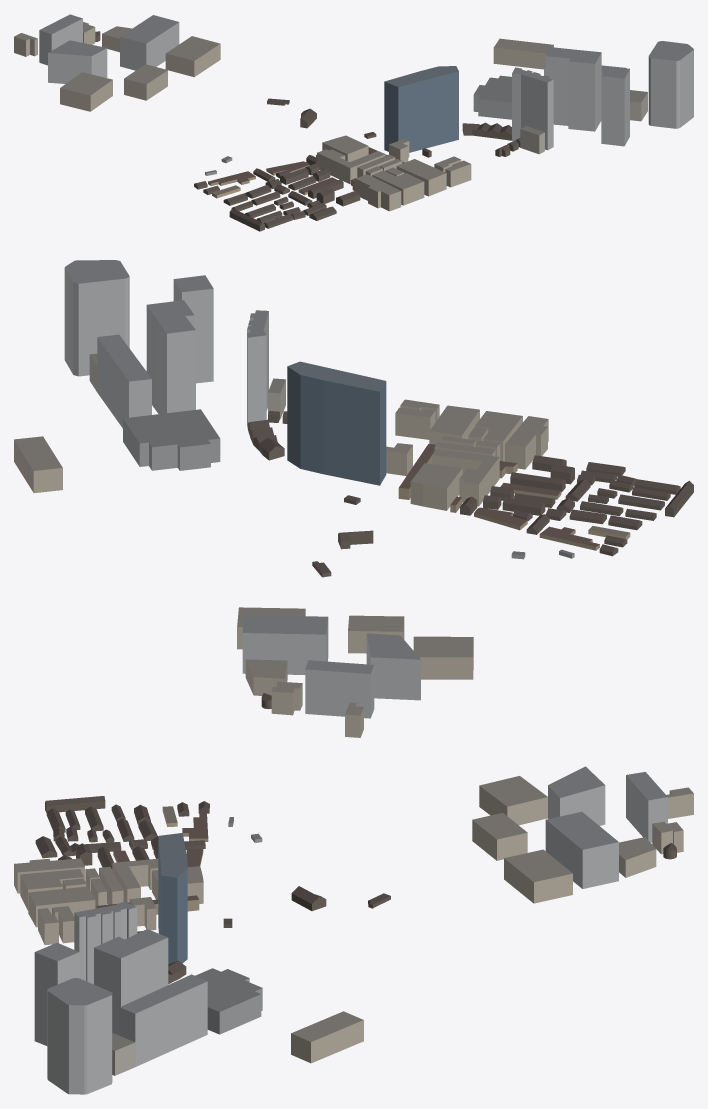
File: tile_7_8.glb
The picture shows the model from 3 angles, top to bottom: view 1: azimuth 30°, elevation 25°; view 2: azimuth 150°, elevation 25°; view 3: azimuth 270°, elevation 25°; orthographic projection. The views are drawn at different scales.
Parts seen in each view (by area): view 1: HP-w250067019, HP-w520214798, HP-w858807440, HP-w447024802, HP-w1287050298, HP-w447024814, HP-w1287050300, HP-w1287050297, HP-w1287050299, HP-w447024801, HP-w520214802, HP-w515758765 (+15 smaller); view 2: HP-w250067019, HP-w520214798, HP-w520214802, HP-w1287050298, HP-w447024815, HP-w447024801, HP-w389701966, HP-w1287050300, HP-w447024814, HP-w1287050299, HP-w858807440, HP-w515758765 (+13 smaller); view 3: HP-w520214798, HP-w447024815, HP-w1287050298, HP-w250067019, HP-w447024802, HP-w520214802, HP-w858807440, HP-w1287050297, HP-w515758765, HP-w447024814, HP-w1287050299, HP-w1287050300 (+20 smaller).
Part boxes in pixels (<box>): HP-w250067019: <box>384,66,458,152</box>; HP-w520214798: <box>648,41,693,128</box>; HP-w858807440: <box>512,67,553,150</box>; HP-w447024802: <box>568,49,601,131</box>; HP-w1287050298: <box>120,15,179,70</box>; HP-w447024814: <box>601,66,629,146</box>; HP-w1287050300: <box>48,40,107,83</box>; HP-w1287050297: <box>165,36,220,77</box>; HP-w1287050299: <box>60,72,112,111</box>; HP-w447024801: <box>545,47,574,125</box>; HP-w520214802: <box>473,75,511,119</box>; HP-w515758765: <box>493,38,553,69</box>; HP-w250067019: <box>287,361,386,485</box>; HP-w520214798: <box>64,260,129,376</box>; HP-w520214802: <box>123,409,220,470</box>; HP-w1287050298: <box>242,615,328,674</box>; HP-w447024815: <box>97,334,151,428</box>; HP-w447024801: <box>157,316,195,413</box>; HP-w389701966: <box>305,660,374,718</box>; HP-w1287050300: <box>366,633,420,700</box>; HP-w447024814: <box>173,275,213,383</box>; HP-w1287050299: <box>413,636,473,679</box>; HP-w858807440: <box>247,310,268,428</box>; HP-w515758765: <box>14,436,62,493</box>; HP-w520214798: <box>47,978,112,1094</box>; HP-w447024815: <box>119,974,207,1066</box>; HP-w1287050298: <box>545,811,618,888</box>; HP-w250067019: <box>158,833,187,964</box>; HP-w447024802: <box>94,936,145,1035</box>; HP-w520214802: <box>195,968,262,1034</box>; HP-w858807440: <box>74,901,137,984</box>; HP-w1287050297: <box>504,849,572,903</box>; HP-w515758765: <box>291,1011,363,1063</box>; HP-w447024814: <box>34,942,79,1045</box>; HP-w1287050299: <box>479,776,547,825</box>; HP-w1287050300: <box>548,766,605,825</box>.
Size of the model in its own units: 537 by 76 by 519.
